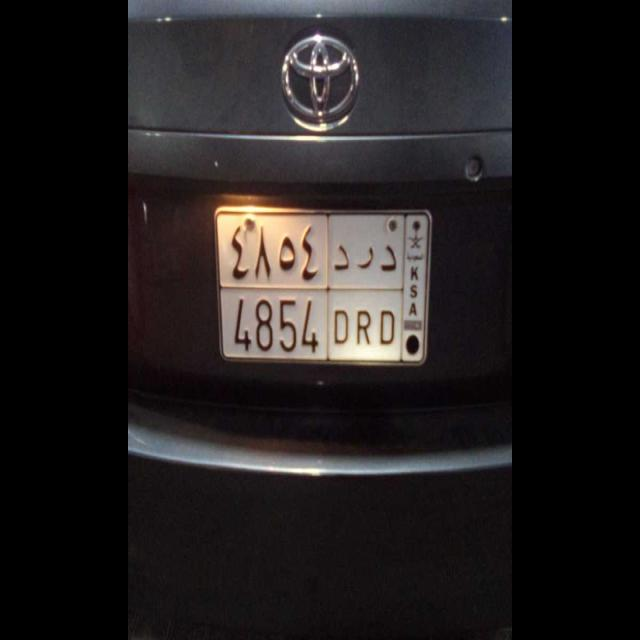license_plate: (221, 286, 402, 362)
